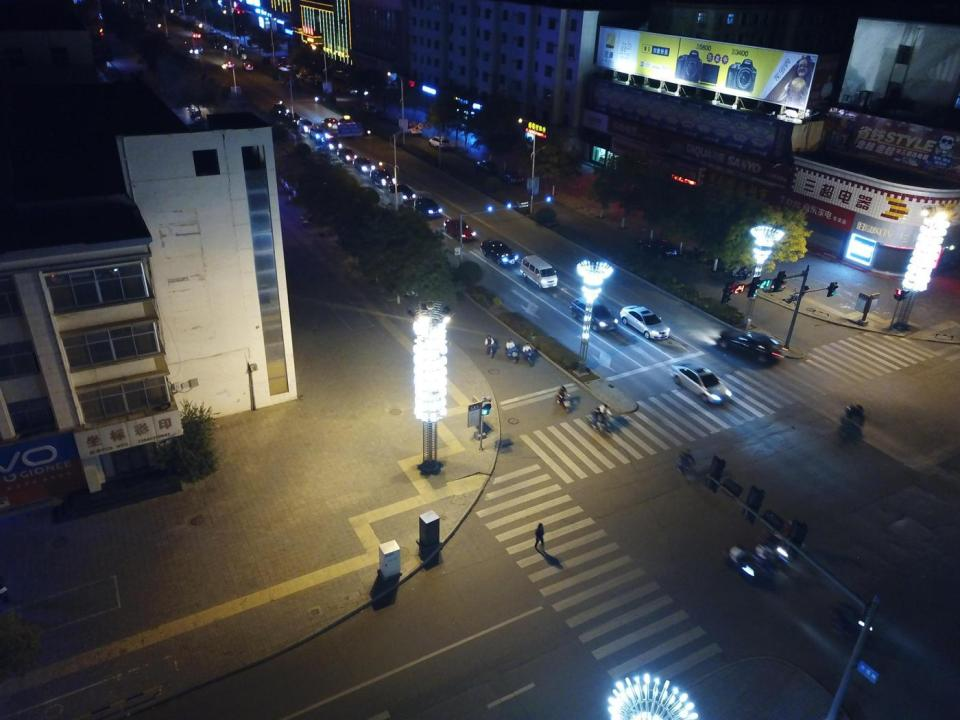car: (670, 363, 732, 404), (716, 330, 783, 363), (619, 305, 671, 339), (569, 296, 618, 331), (480, 239, 518, 265), (638, 238, 678, 261), (443, 218, 477, 241), (415, 196, 444, 218), (370, 168, 396, 187), (389, 184, 416, 202), (353, 156, 375, 174), (475, 160, 499, 175), (337, 148, 358, 163), (499, 172, 523, 185), (322, 135, 342, 150), (429, 137, 451, 150), (310, 128, 328, 143), (404, 121, 422, 136), (314, 94, 335, 106), (340, 115, 356, 129), (273, 104, 291, 116), (322, 118, 340, 129), (286, 113, 302, 124), (404, 284, 419, 295), (360, 86, 375, 96), (386, 260, 398, 271), (372, 110, 387, 118), (278, 65, 294, 72), (347, 86, 360, 94), (383, 82, 397, 89), (190, 46, 202, 54), (241, 62, 253, 70), (364, 105, 376, 113), (223, 61, 234, 69), (295, 72, 306, 79), (192, 30, 201, 38), (305, 76, 314, 84), (194, 21, 203, 28), (314, 80, 323, 87), (278, 56, 286, 62), (238, 44, 245, 50), (214, 32, 222, 37), (220, 34, 226, 40), (223, 37, 230, 42), (210, 29, 215, 34), (173, 12, 179, 16)
van: (521, 255, 558, 289), (299, 119, 313, 133)
